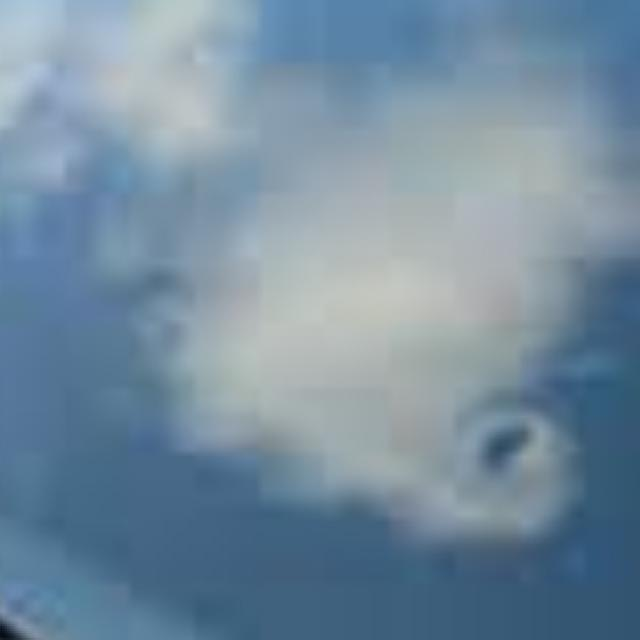dents: (461, 400, 588, 518)
